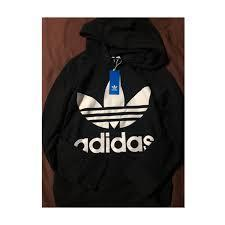sweater: (45, 18, 183, 206)
